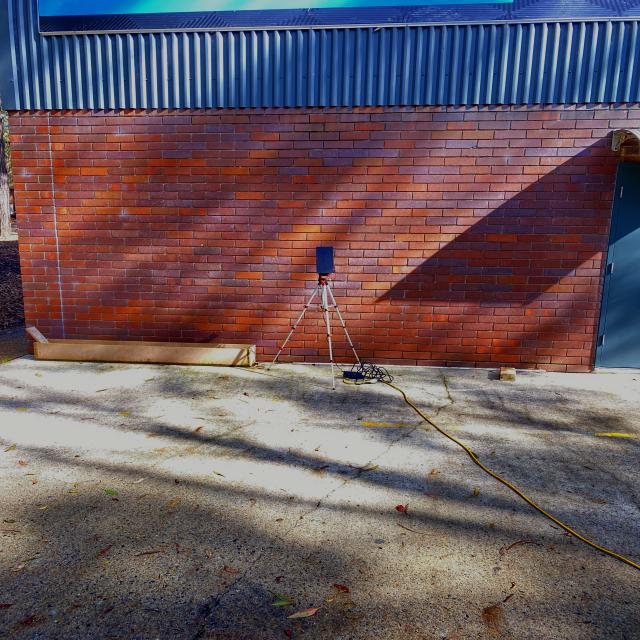matrix: (315, 244, 338, 276)
